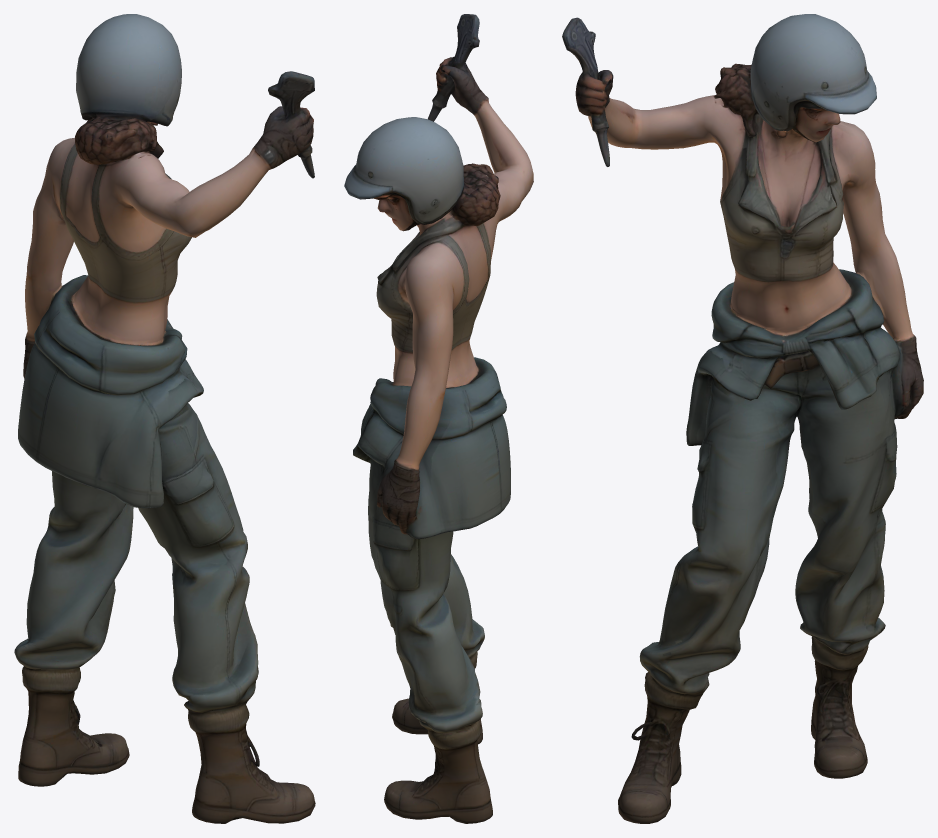
File: female_soldier.glb
The picture shows the model from 3 angles, left to right: view 1: azimuth 30°, elevation 25°; view 2: azimuth 150°, elevation 25°; view 3: azimuth 270°, elevation 25°; orthographic projection. The views are drawn at different scales.
Parts seen in each view (by area): view 1: tripo_node_9a7c5e4c-2b24-4e76-91cb-f59b5bf713f2; view 2: tripo_node_9a7c5e4c-2b24-4e76-91cb-f59b5bf713f2; view 3: tripo_node_9a7c5e4c-2b24-4e76-91cb-f59b5bf713f2.
Part boxes in pixels (x1,y1,x2,y2): tripo_node_9a7c5e4c-2b24-4e76-91cb-f59b5bf713f2: (14,14,315,823); tripo_node_9a7c5e4c-2b24-4e76-91cb-f59b5bf713f2: (344,14,533,823); tripo_node_9a7c5e4c-2b24-4e76-91cb-f59b5bf713f2: (562,14,923,823).
Size of the model in its own units: 0.4453 by 1.65 by 0.6915.
1 material, 1 textured.
